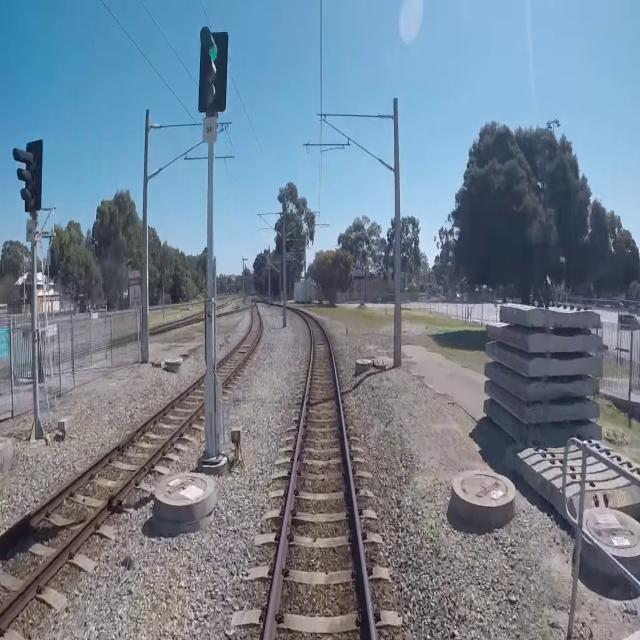rail-track: (0, 376, 204, 604), (269, 314, 372, 639), (216, 304, 260, 382)
